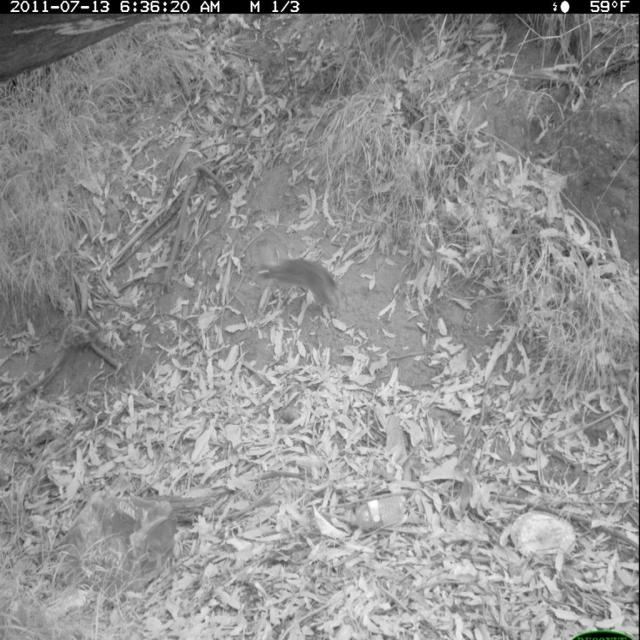rabbit: (251, 231, 347, 324)
